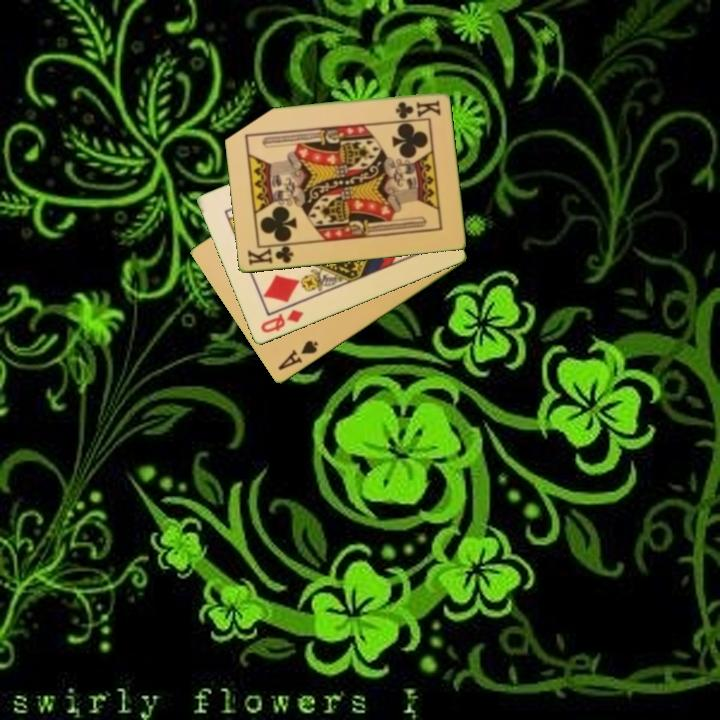As: (274, 337, 321, 374)
Kc: (244, 241, 298, 268), (392, 97, 443, 120)
Qd: (257, 306, 306, 336)
